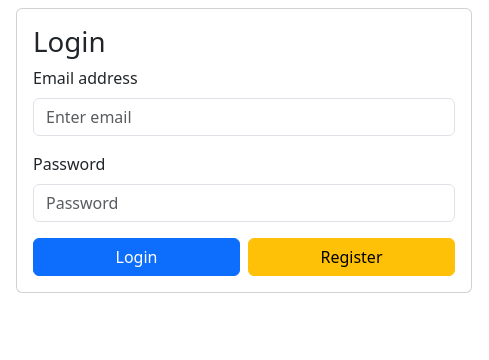
Test case: Open login page › Checks if user submits an empty form
Click the button with id "btnLogin": (137, 257) [33, 238, 240, 276]
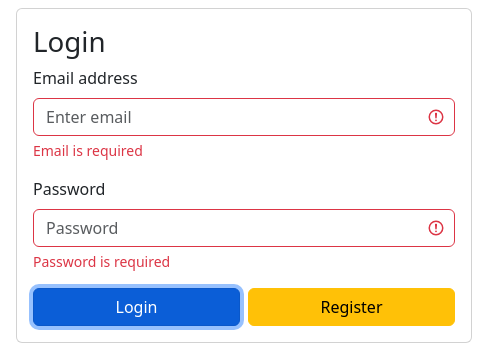
Result: the text "Email is required" is shown at [33, 141, 143, 160]
Result: the text "Password is required" is shown at [33, 252, 170, 271]
